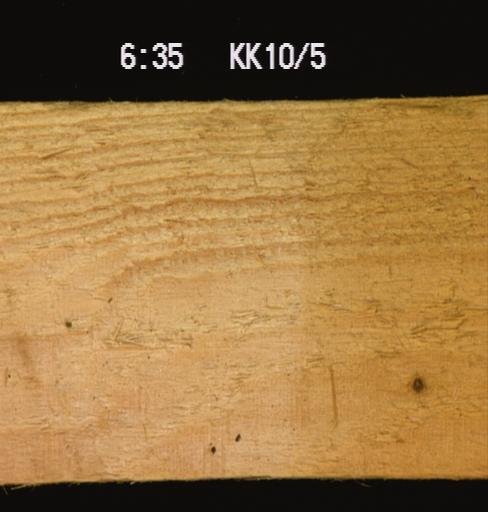small_knot: (59, 314, 75, 332), (101, 292, 120, 307), (228, 430, 244, 444), (204, 440, 219, 454)
